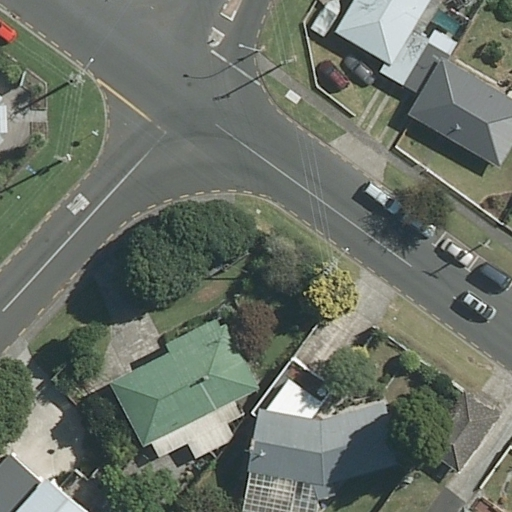DT: (61, 68, 86, 91), (279, 50, 299, 72), (48, 151, 74, 165)
